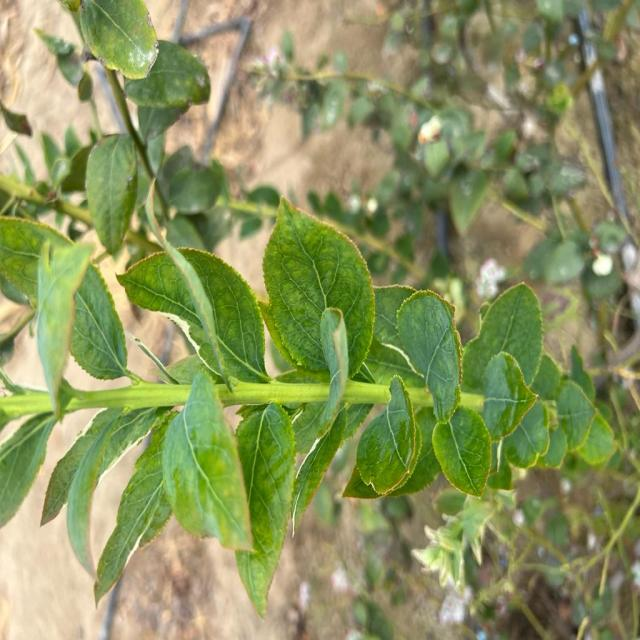Hojas con oidiosis: (77, 0, 159, 81)
Hojas sanas sin oidiosis: (260, 192, 376, 382), (113, 247, 266, 385), (155, 367, 257, 559), (225, 398, 296, 621), (394, 285, 462, 426), (462, 280, 543, 398), (354, 372, 422, 496), (429, 405, 492, 501), (478, 351, 540, 438)
